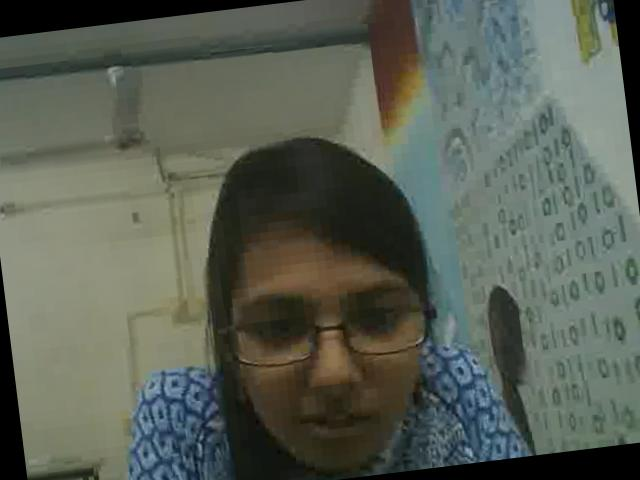bingung: (220, 217, 446, 480)
